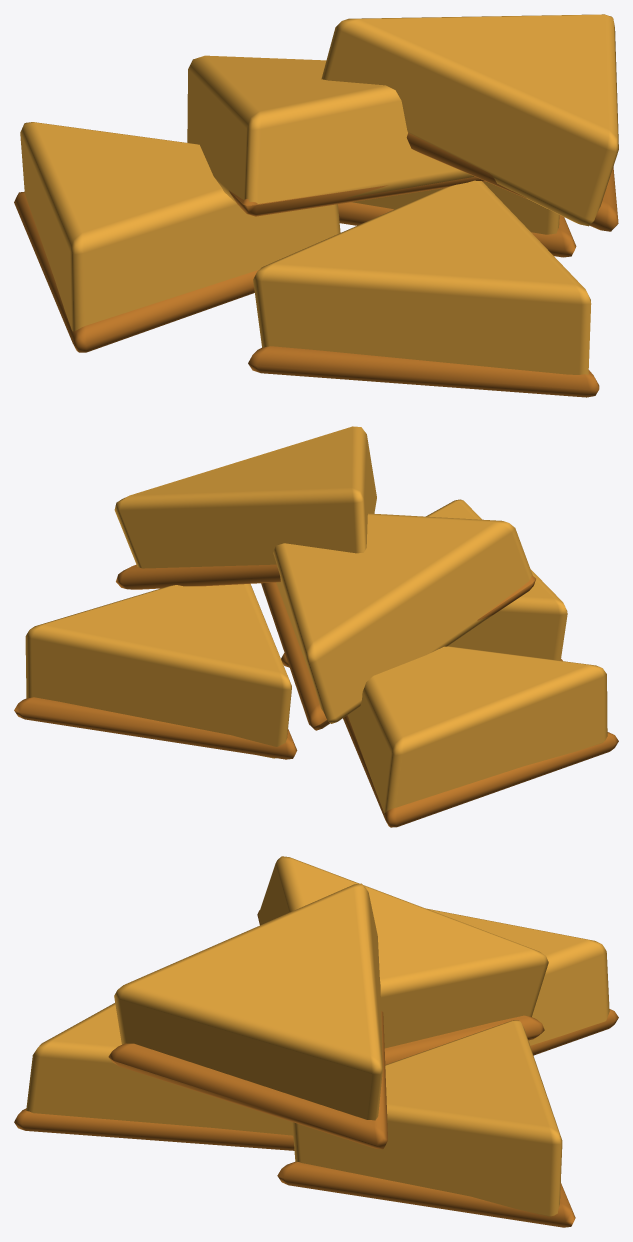
The model's file is Tofu_Cooked.glb.
The picture shows the model from 3 angles, top to bottom: view 1: azimuth 30°, elevation 25°; view 2: azimuth 150°, elevation 25°; view 3: azimuth 270°, elevation 25°; orthographic projection. The views are drawn at different scales.
Visible parts, largest first — view 1: Tofu_Cooked; view 2: Tofu_Cooked; view 3: Tofu_Cooked.
Part boxes in pixels (left/top/right/bottom): Tofu_Cooked: left=14, top=14, right=618, bottom=397; Tofu_Cooked: left=14, top=426, right=618, bottom=827; Tofu_Cooked: left=14, top=856, right=618, bottom=1227.
Bounding box in the file's own units: 0.1348 × 0.0574 × 0.1381.
